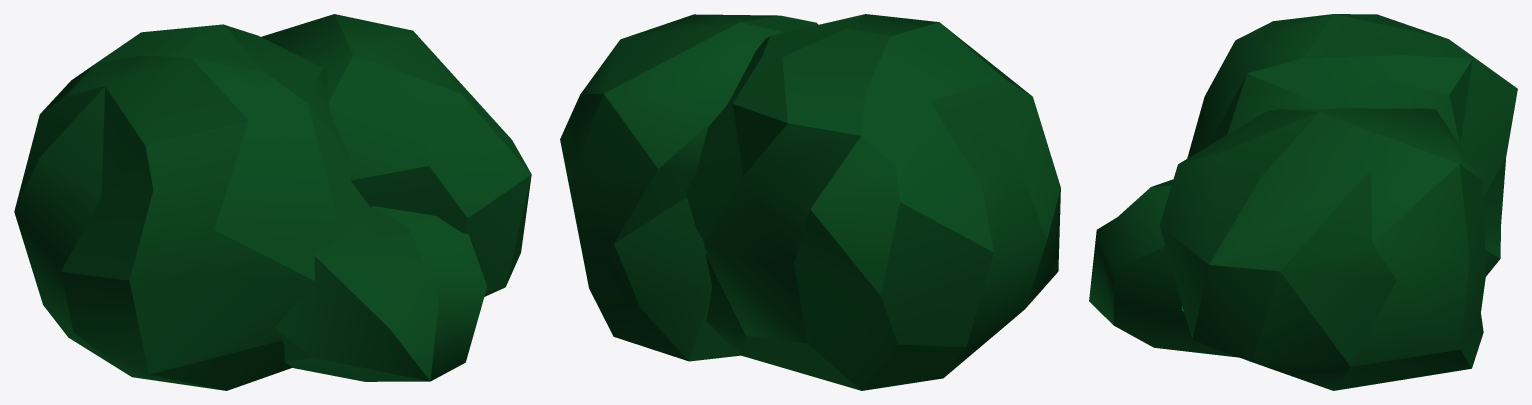
File: Bush1.fbx
3 renders of one model, left to right at view 1: azimuth 30°, elevation 25°; view 2: azimuth 150°, elevation 25°; view 3: azimuth 270°, elevation 25°, orthographic. The views are drawn at different scales.
Parts seen in each view (by area): view 1: Bush1; view 2: Bush1; view 3: Bush1.
Boxes of the visible parts, left/top/right/bottom form: Bush1: left=14, top=14, right=531, bottom=390; Bush1: left=560, top=14, right=1060, bottom=390; Bush1: left=1089, top=14, right=1517, bottom=390.
Size of the model in its own units: 36.53 by 22.94 by 33.53.
